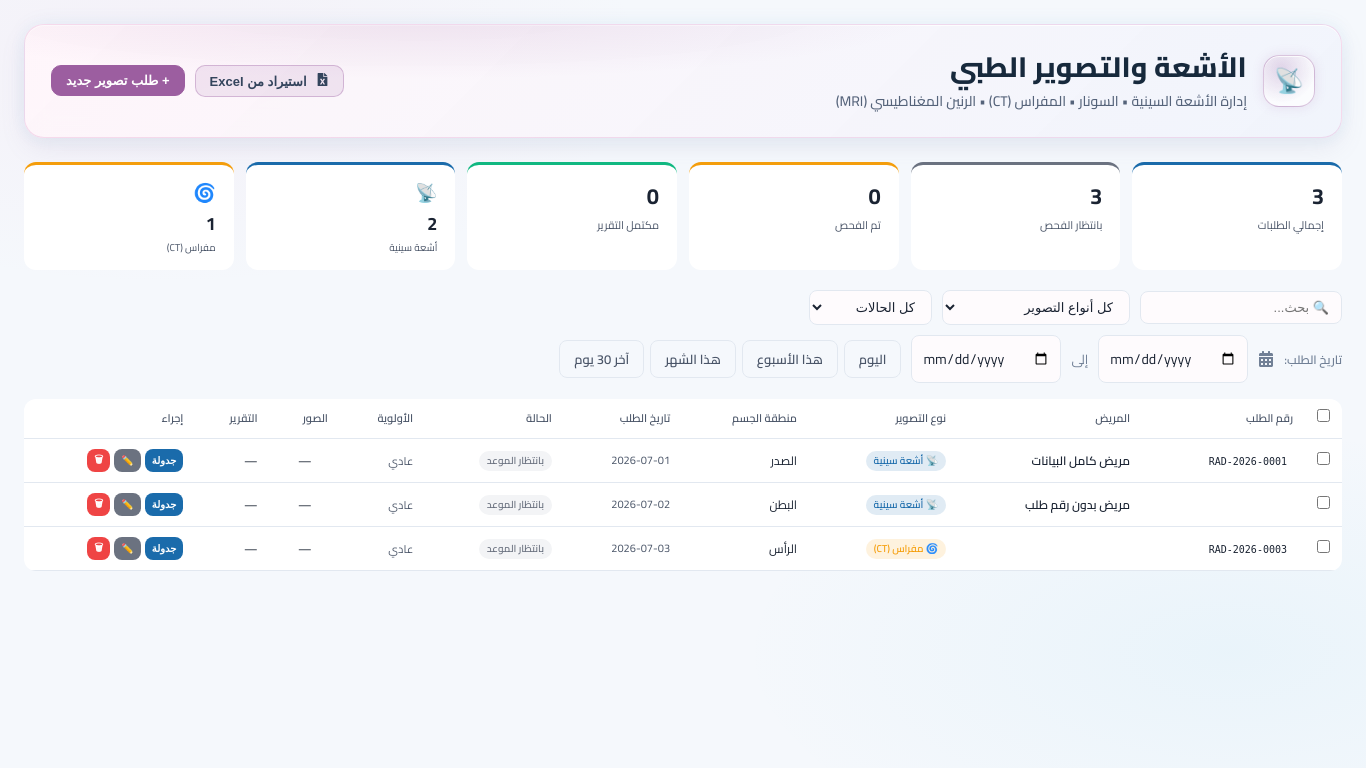
Scenario: RadiologyPage — search crash guard › clearing the search after typing restores the full list without throwing
Type "مريض" into the field with placeholder "🔍 بحث..." at (1241, 308), box x1=1140 y1=291 x2=1342 y2=324
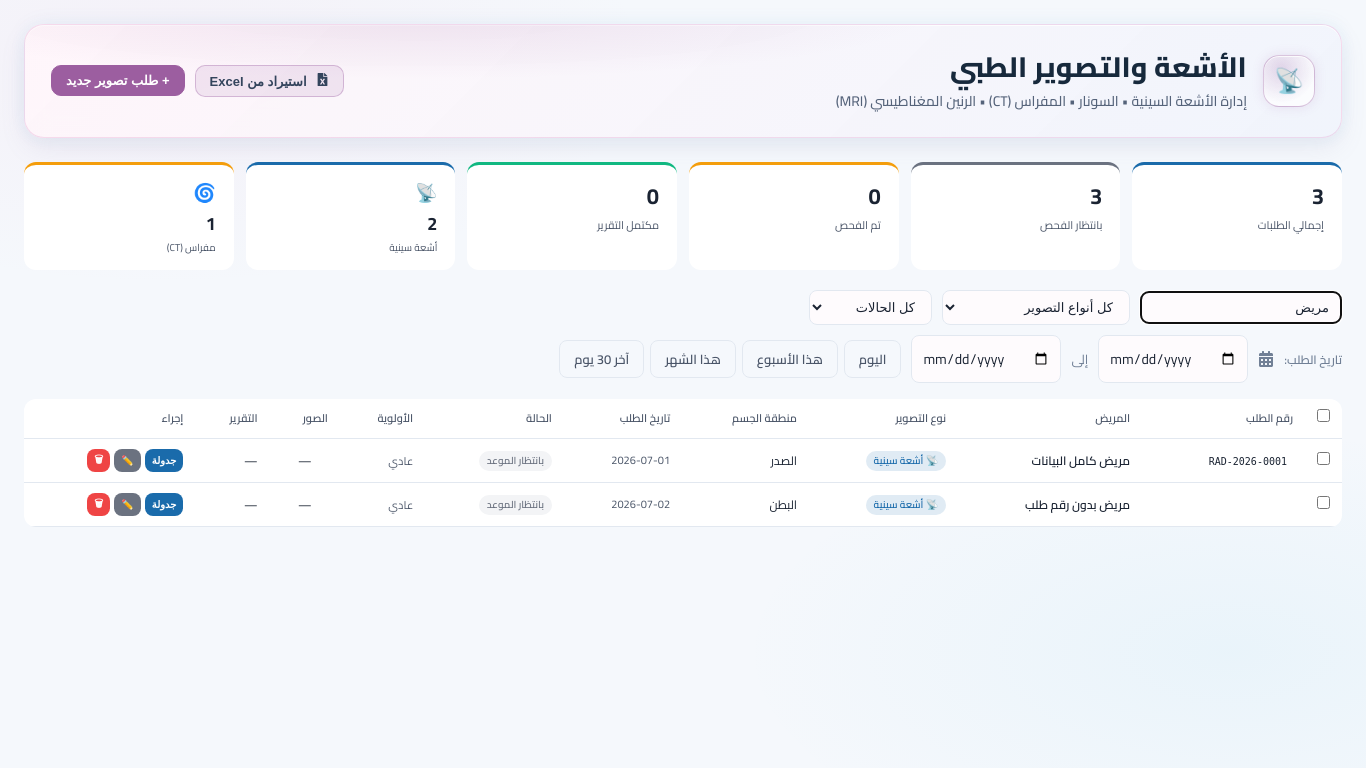
Clear the field with placeholder "🔍 بحث..." at (1241, 308), box x1=1140 y1=291 x2=1342 y2=324
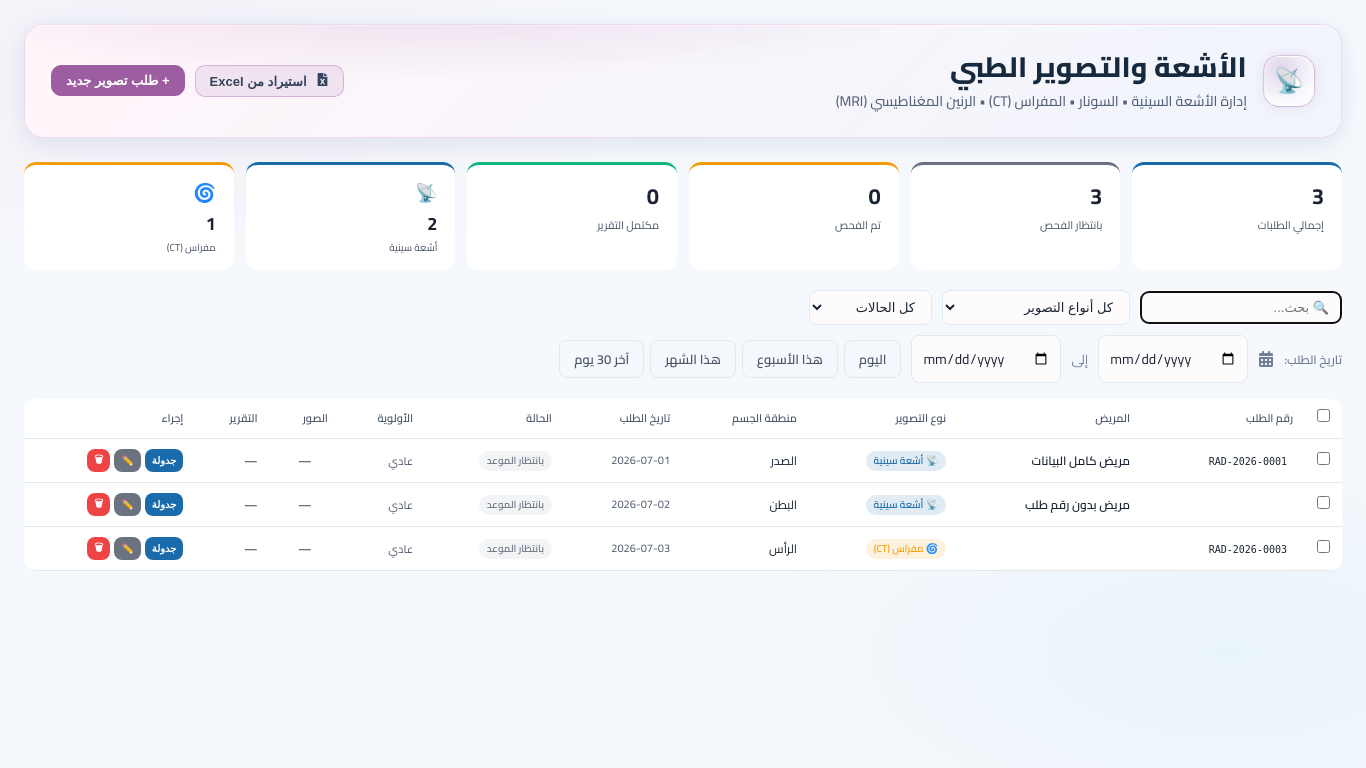
Expected: the text "مريض كامل البيانات" is shown, x1=1032 y1=449 x2=1130 y2=472
Expected: the text "RAD-2026-0003" is shown, x1=1203 y1=542 x2=1293 y2=557
